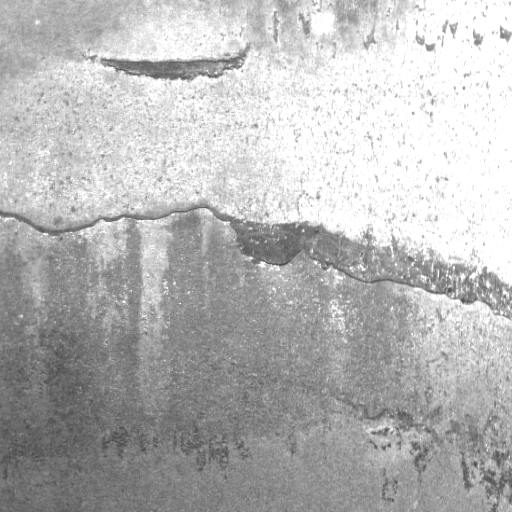qiaopi: (3, 191, 512, 322), (97, 39, 254, 84)
